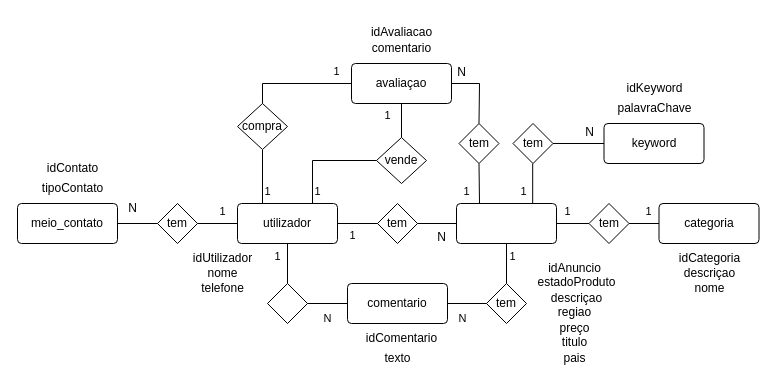
Image size: 777x390. Some labels were removed from this diagram. The centre of each missing label's shape, as x and y in pixels:
"anuncio" belongs at [506,223].
"faz" belongs at [287,303].
